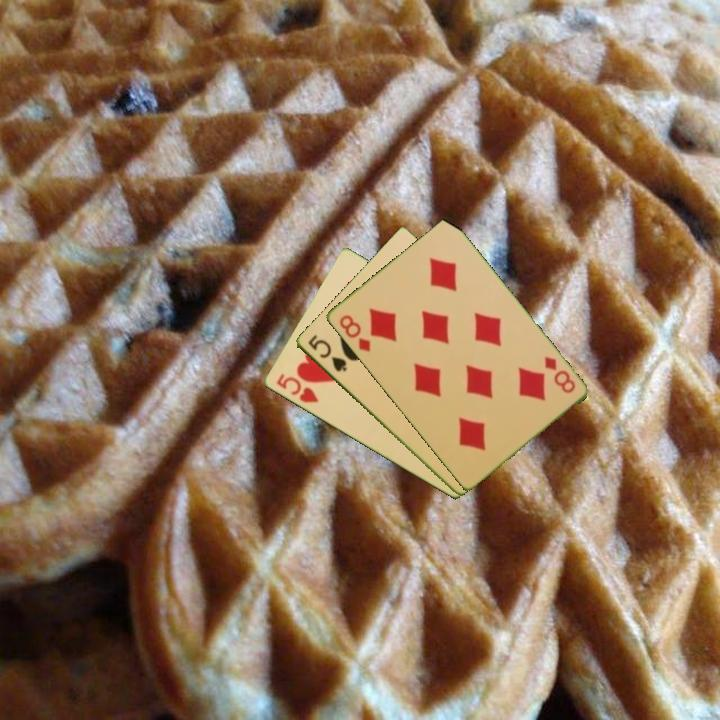5h: (272, 370, 321, 406)
5s: (304, 331, 350, 375)
8d: (335, 311, 373, 355), (540, 353, 578, 396)
